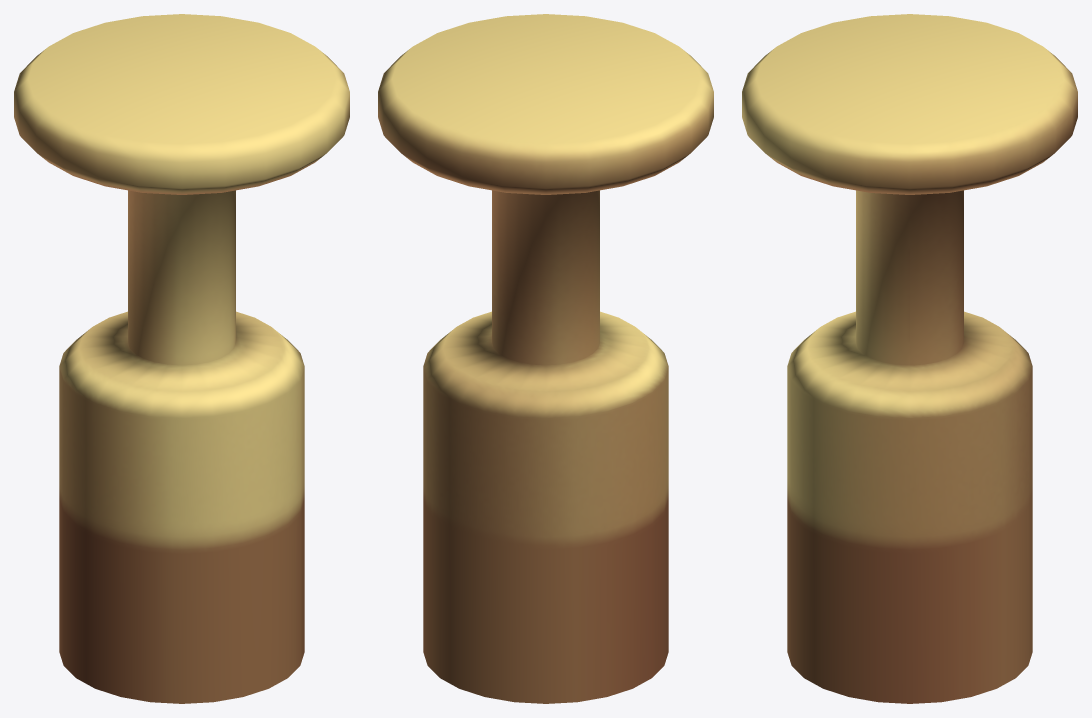
The model's file is CommunityRoomB_ConciergeBellA.fbx.
3 renders of one model, left to right at view 1: azimuth 30°, elevation 25°; view 2: azimuth 150°, elevation 25°; view 3: azimuth 270°, elevation 25°, orthographic.
Visible parts, largest first — view 1: CommunityRoomB_ConciergeBellA; view 2: CommunityRoomB_ConciergeBellA; view 3: CommunityRoomB_ConciergeBellA.
Part boxes in pixels (x1,y1,x2,y2): CommunityRoomB_ConciergeBellA: [14, 14, 349, 703]; CommunityRoomB_ConciergeBellA: [378, 14, 713, 703]; CommunityRoomB_ConciergeBellA: [742, 14, 1077, 703].
Size of the model in its own units: 1.9 by 3.58 by 1.9.
